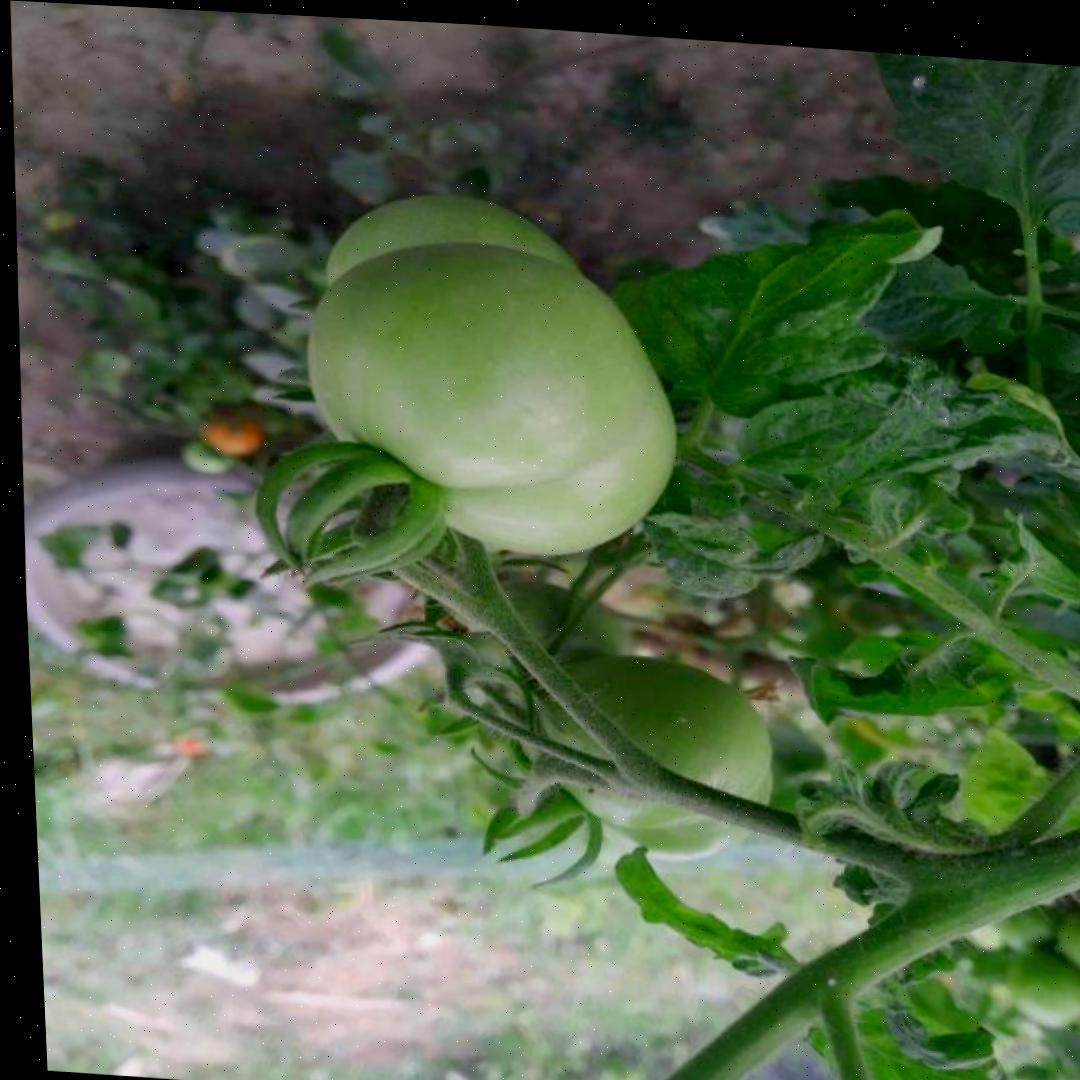mentah: (292, 233, 682, 566), (519, 649, 781, 862)
